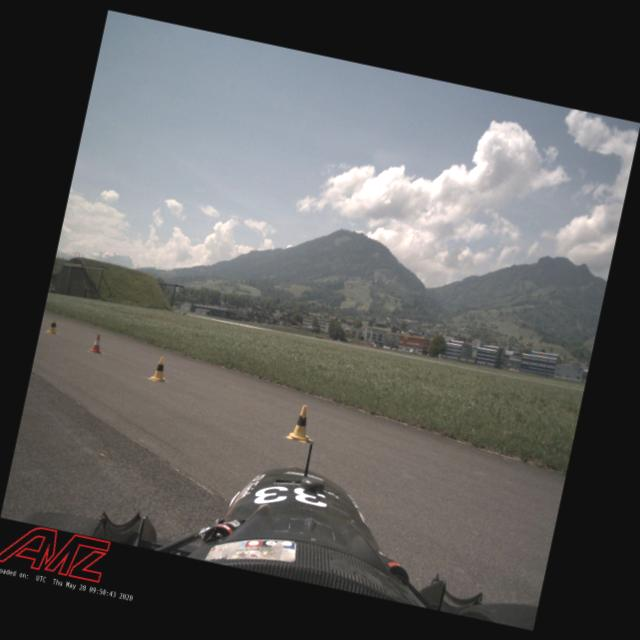orange_cone: (86, 332, 105, 355)
yellow_cone: (286, 401, 316, 443), (148, 354, 172, 384), (44, 316, 60, 336)
